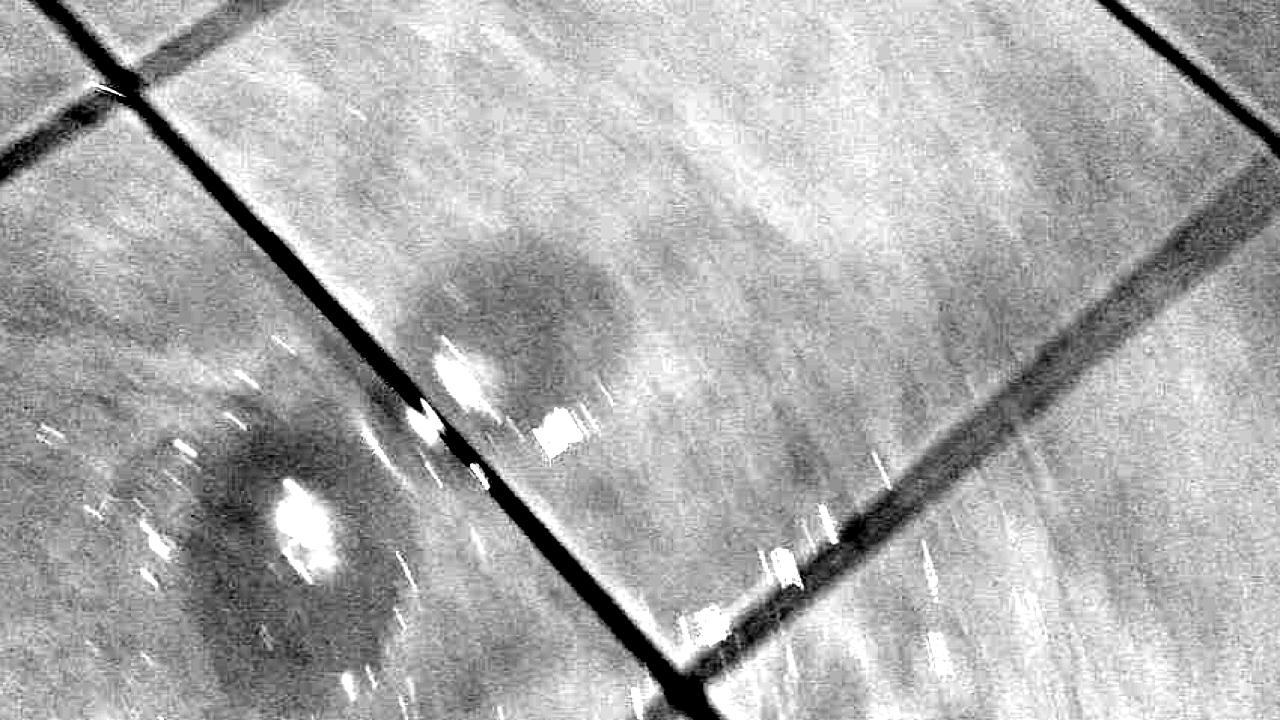drinks Stains: (159, 227, 638, 720)
